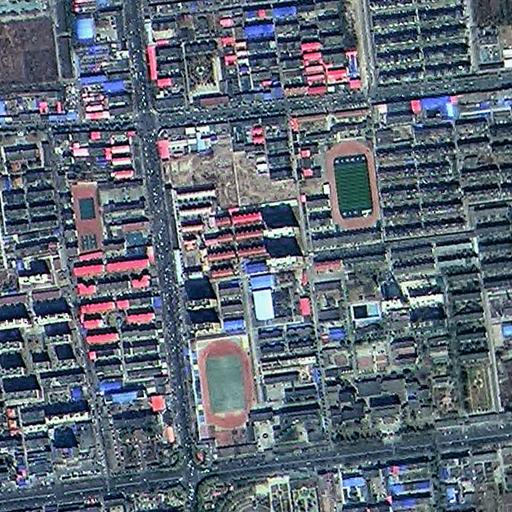school: (186, 323, 328, 461), (287, 102, 381, 237), (69, 177, 148, 254)
